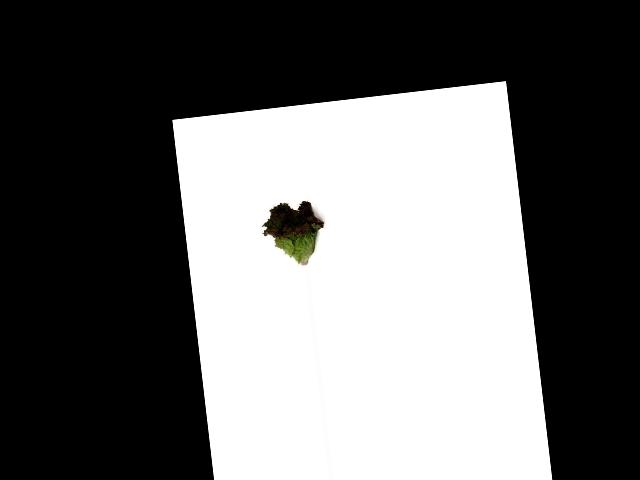lettuce: (256, 189, 333, 271)
